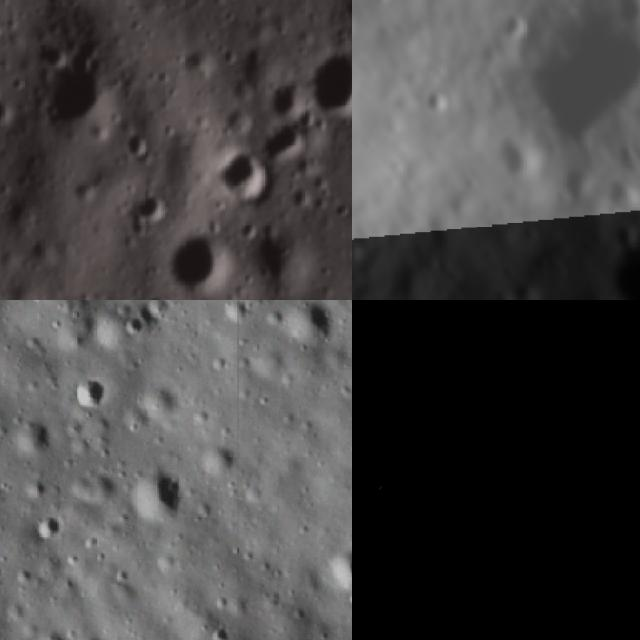crater: (492, 0, 640, 161), (37, 65, 111, 146), (162, 224, 234, 295), (586, 206, 640, 300), (204, 148, 275, 208), (296, 54, 352, 125), (128, 468, 188, 530), (613, 383, 640, 489), (486, 128, 534, 186), (254, 117, 314, 163), (5, 408, 58, 458), (612, 314, 640, 398), (410, 76, 457, 125), (288, 300, 335, 349), (497, 547, 542, 591), (128, 187, 165, 239), (570, 490, 607, 538), (490, 4, 531, 46), (72, 378, 112, 418), (356, 459, 396, 497), (518, 512, 558, 549), (132, 300, 183, 329), (406, 580, 442, 620), (326, 543, 352, 591), (600, 0, 640, 31), (620, 548, 640, 591), (37, 514, 64, 544), (31, 624, 66, 640), (464, 300, 508, 311)
